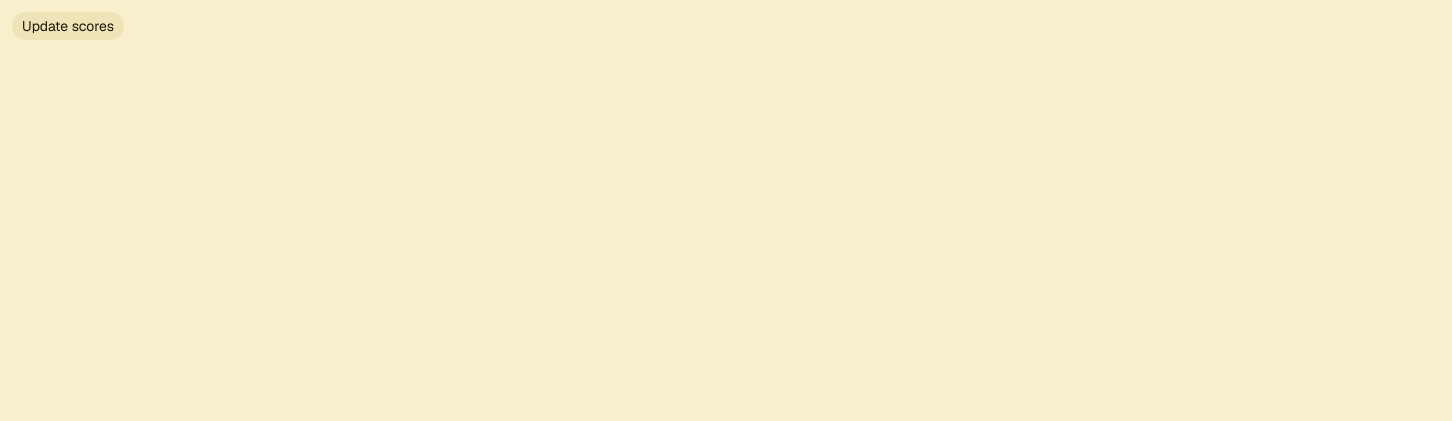
Test: InlineRatingEditor (R51) › puts the old scores back when cancelled
Click the button "Update scores" at coordinates (68, 26), box [12,12,124,40]
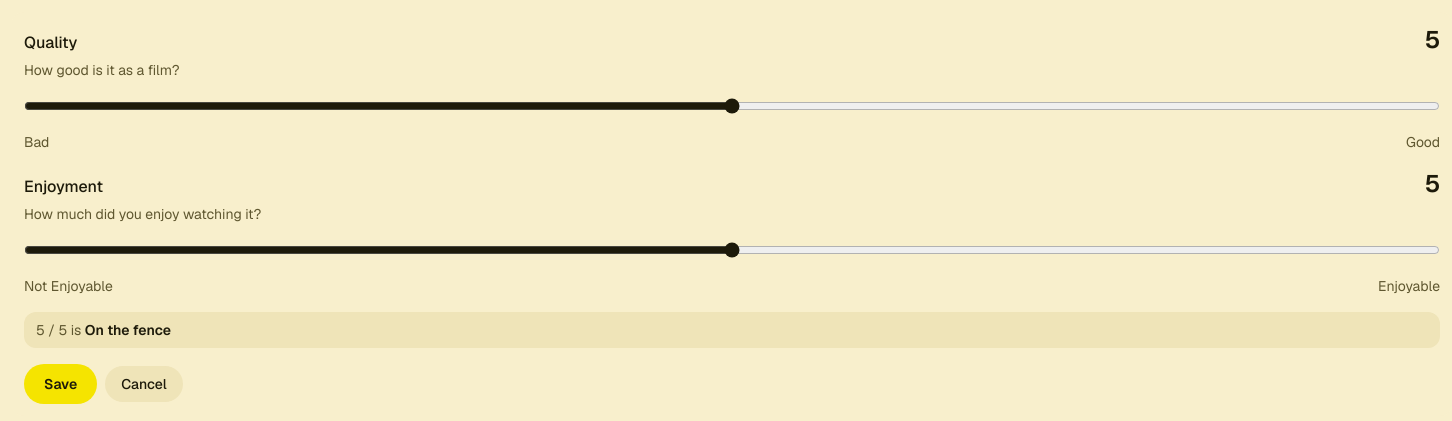
Set the slider labelled "Quality" to "9" at coordinates (1292, 106), box [24,84,1440,128]
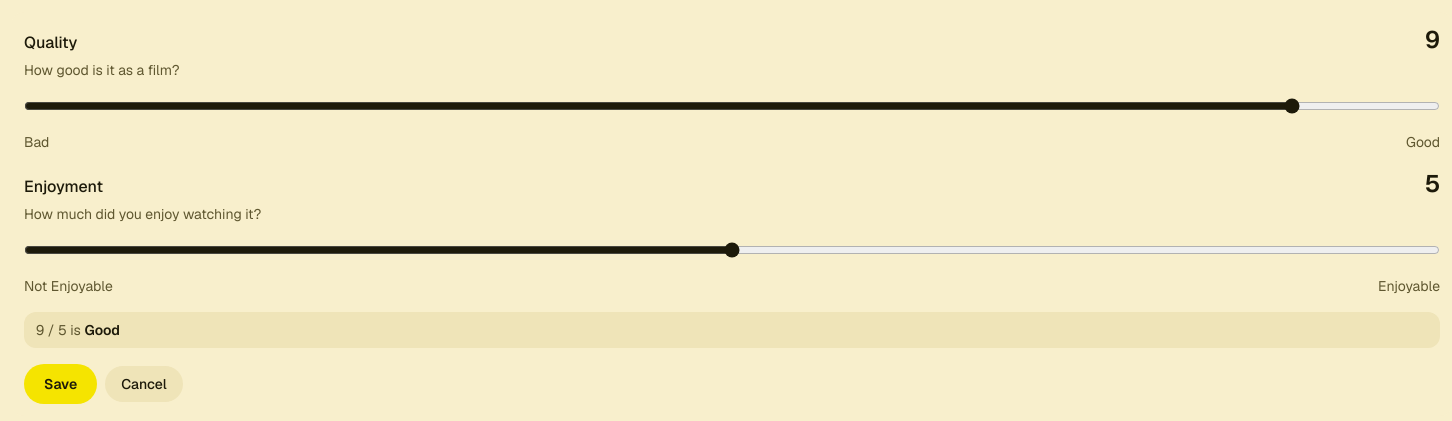
Set the slider labelled "Enjoyment" to "1" at coordinates (172, 250), box [24,228,1440,272]
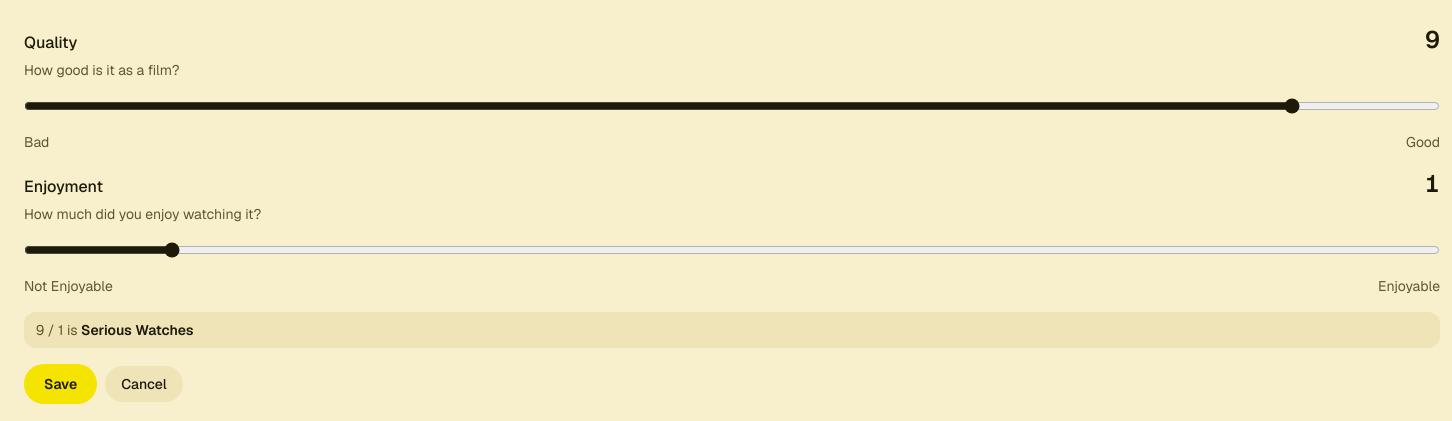
Click the button "Cancel" at coordinates (144, 384), box [105,366,183,402]
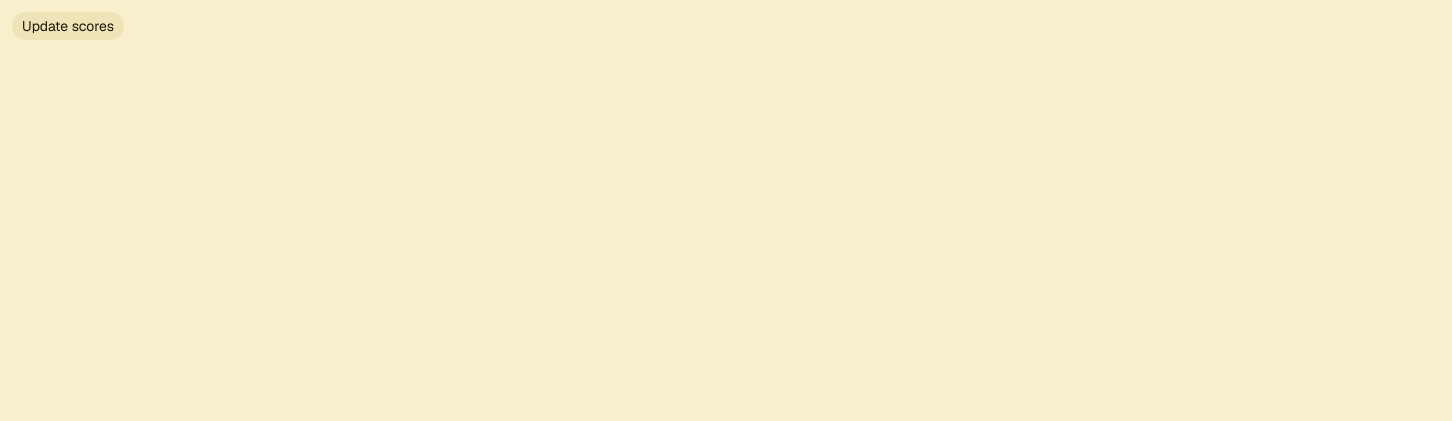
Now the slider is gone
Click the button "Update scores" at coordinates (68, 26), box [12,12,124,40]
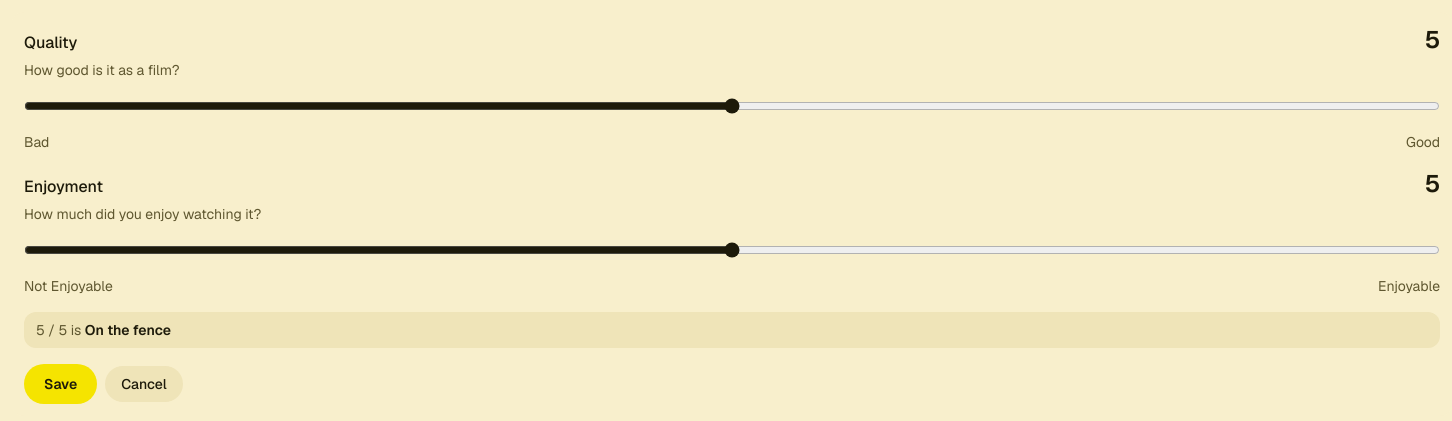
Now the slider labelled "Quality" holds "5", box [24,84,1440,128]
Now the slider labelled "Enjoyment" holds "5", box [24,228,1440,272]
